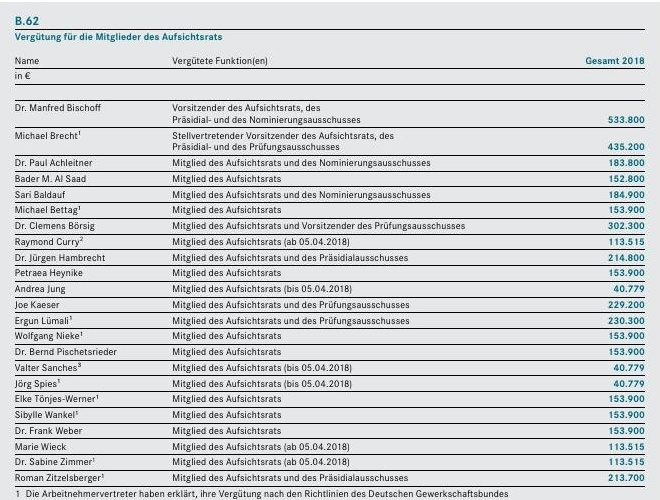table: (0, 0, 660, 500)
